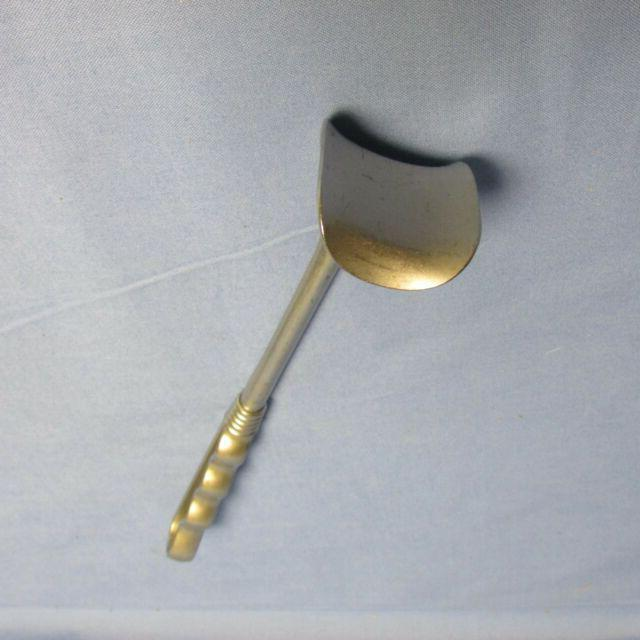Richardson: (159, 111, 486, 568)
